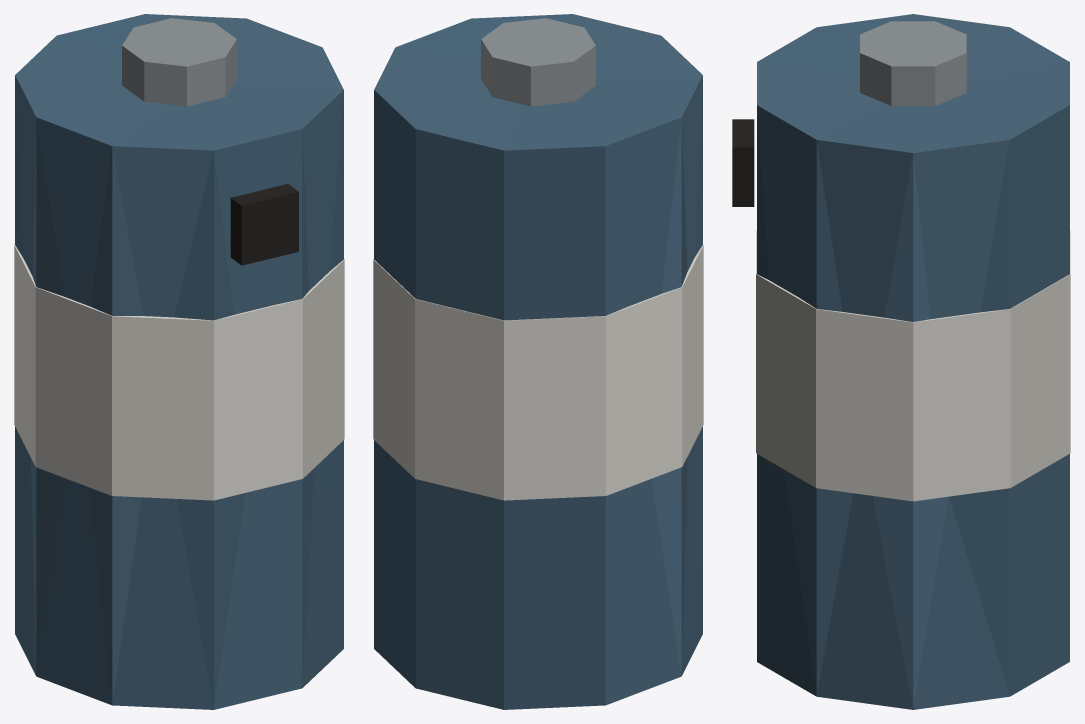
The model's file is battery_cell_perezaryazhaemaya_idle.glb.
3 views of the same model, side by side, from view 1: azimuth 30°, elevation 25°; view 2: azimuth 150°, elevation 25°; view 3: azimuth 270°, elevation 25° (orthographic).
Parts seen in each view (by area): view 1: battery_cell_perezaryazhaemaya_idle; view 2: battery_cell_perezaryazhaemaya_idle; view 3: battery_cell_perezaryazhaemaya_idle.
Part boxes in pixels (left/top/right/bottom): battery_cell_perezaryazhaemaya_idle: left=14, top=14, right=344, bottom=709; battery_cell_perezaryazhaemaya_idle: left=373, top=14, right=703, bottom=709; battery_cell_perezaryazhaemaya_idle: left=732, top=14, right=1070, bottom=709.
Bounding box in the file's own units: 0.0302 × 0.06 × 0.0308.
Materials: 1 (1 with a texture image).
